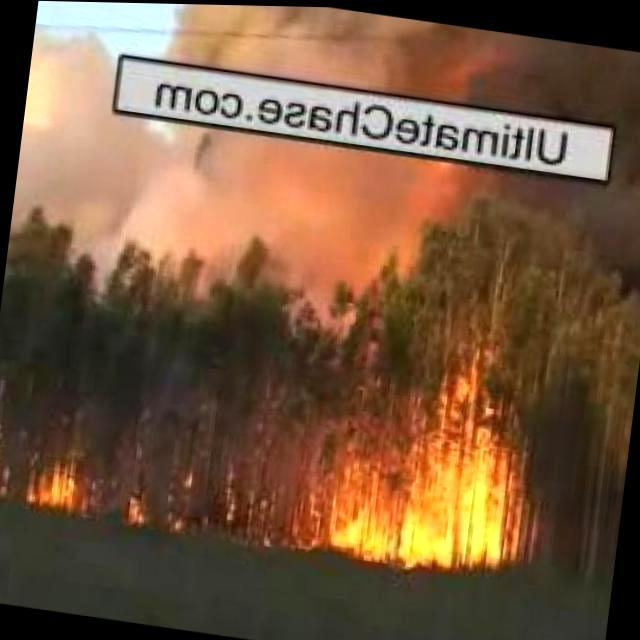fire: (320, 390, 534, 584), (21, 455, 87, 513), (253, 480, 310, 546), (128, 496, 152, 522)
